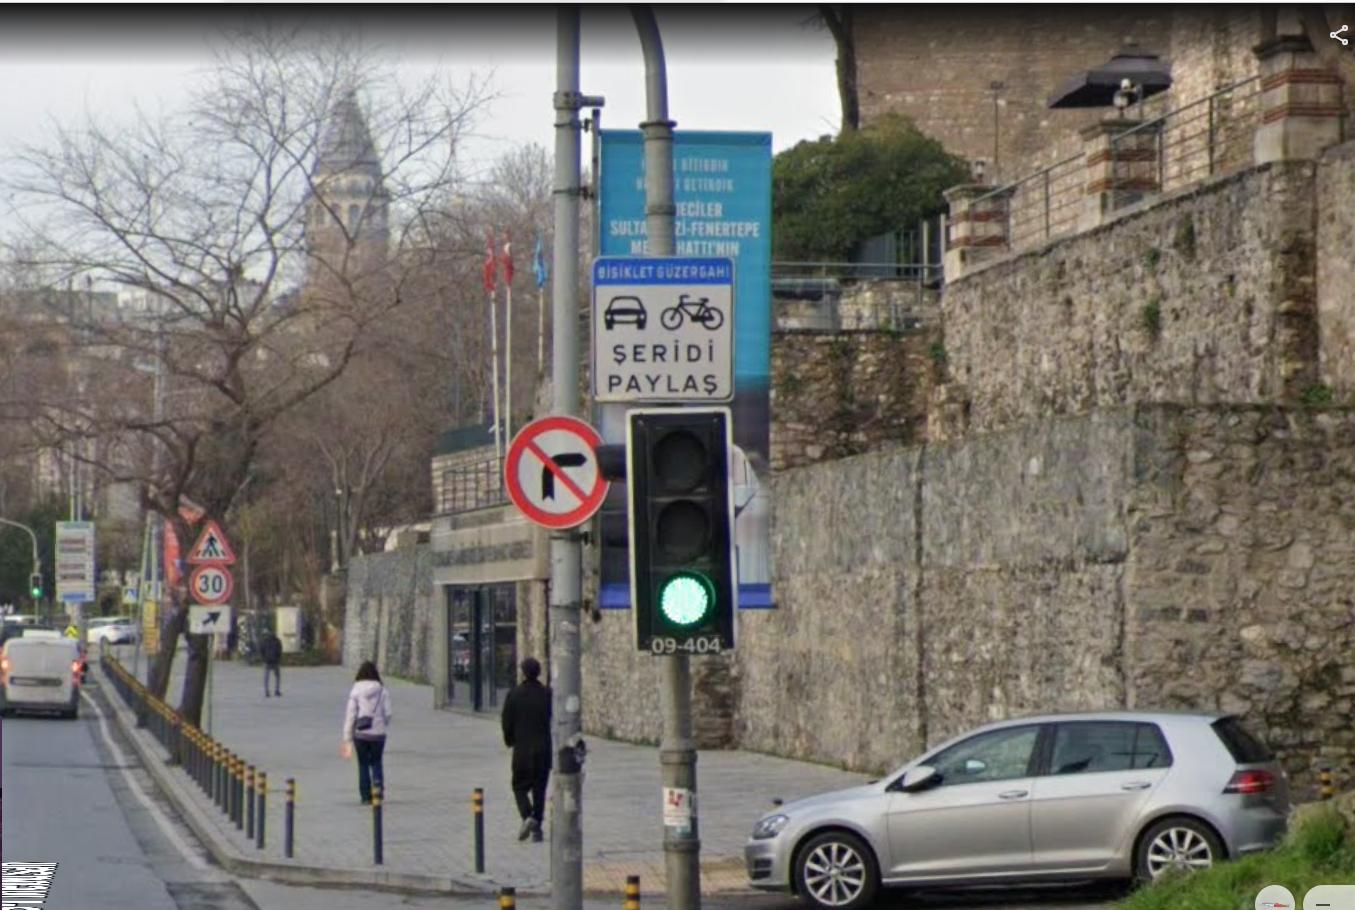greenlight: (638, 418, 729, 634)
rightturnsareforbidden: (510, 420, 603, 515)
